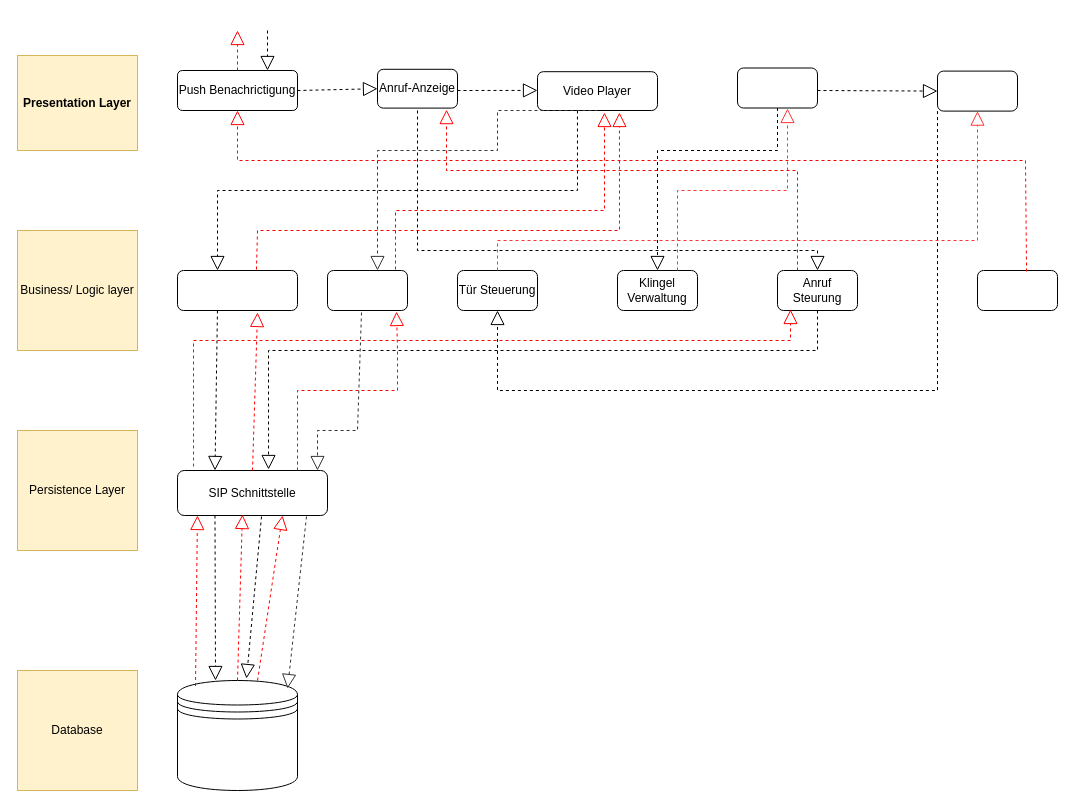
Image size: 1075x808. Some labels were removed from this diagram. Here are the shapes that lost their labels. From the top down, the centre of each, then its label:
At pixel 777 87: "Klingel/ AnzeigeMenu".
At pixel 977 90: "Türsteurung anzeige".
At pixel 237 290: "Video Stream".
At pixel 367 290: "Audio Stream".
At pixel 1017 290: "Push Service".
